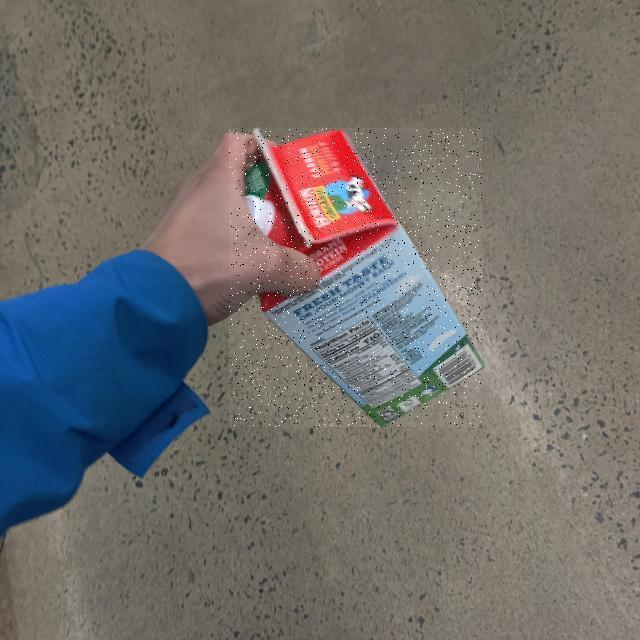milk: (0, 214, 470, 640)
